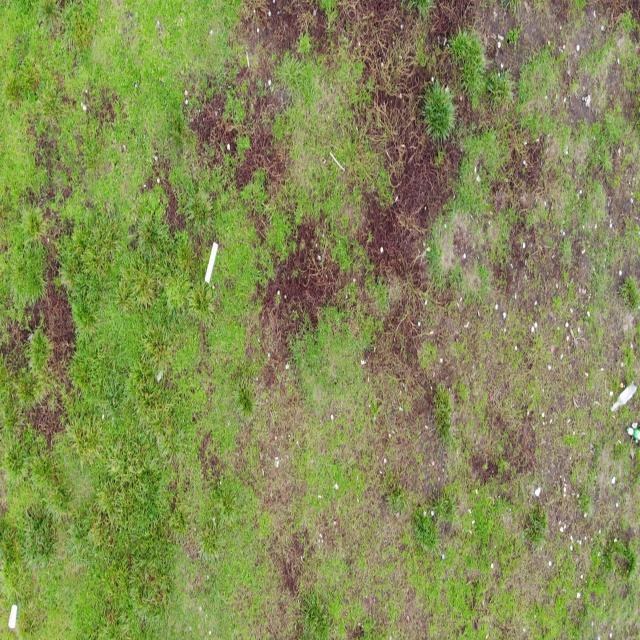rubbish: (611, 378, 637, 412), (204, 241, 218, 283), (8, 601, 18, 626), (626, 426, 640, 441)
